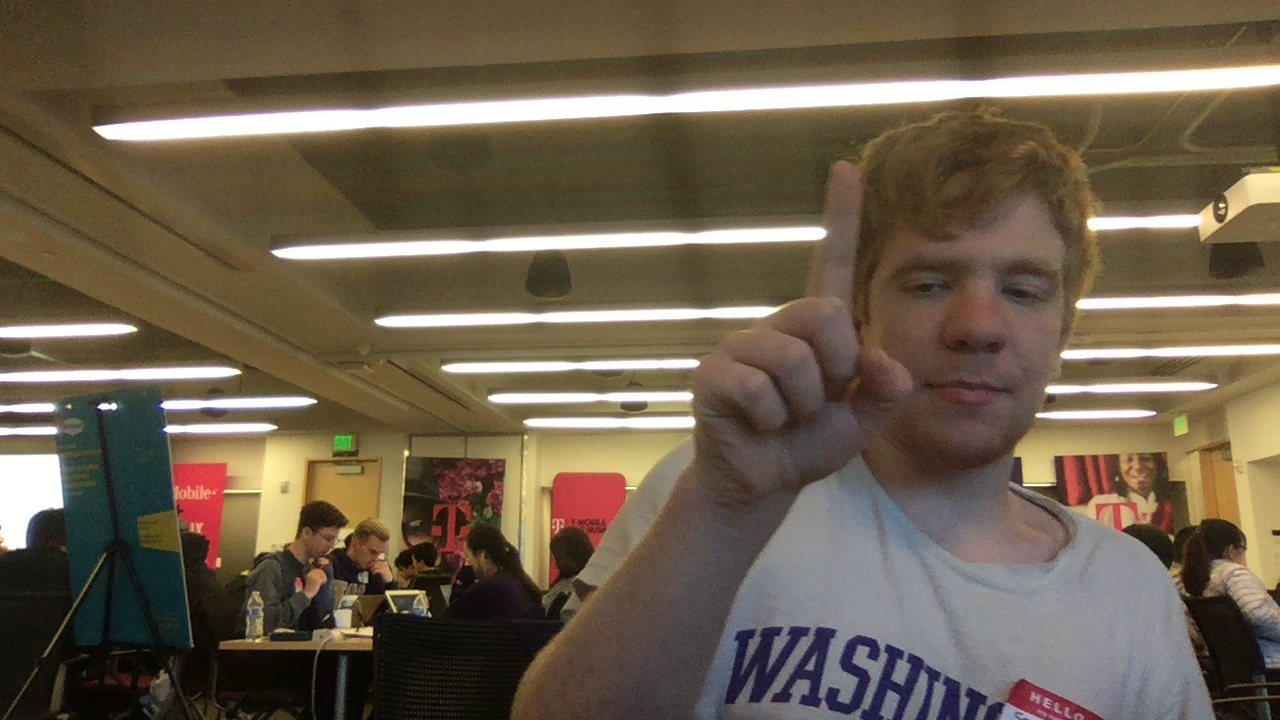index: (687, 159, 916, 509)
